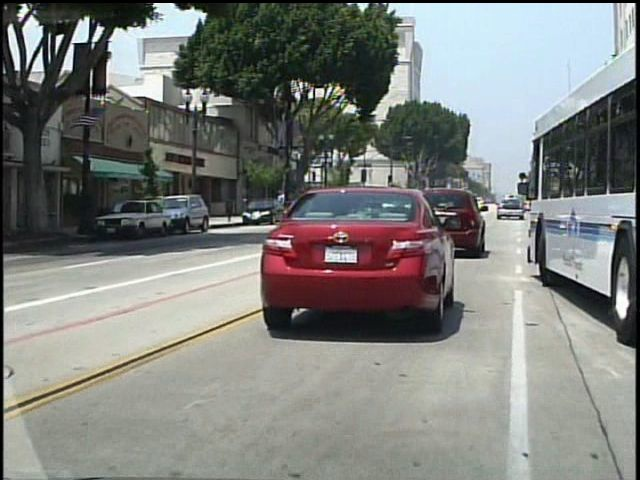person: (275, 188, 288, 221)
